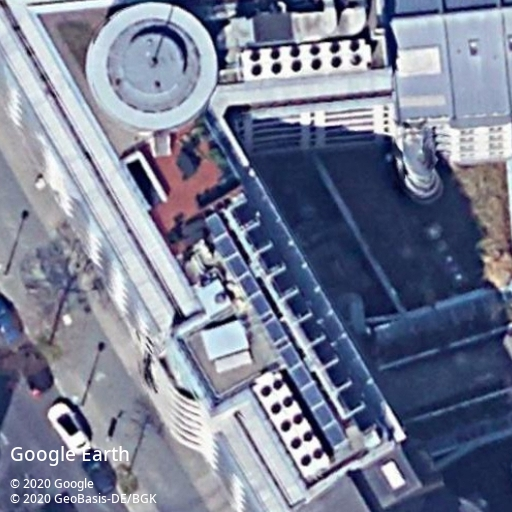Chiller: (253, 370, 330, 477), (242, 38, 373, 81)
